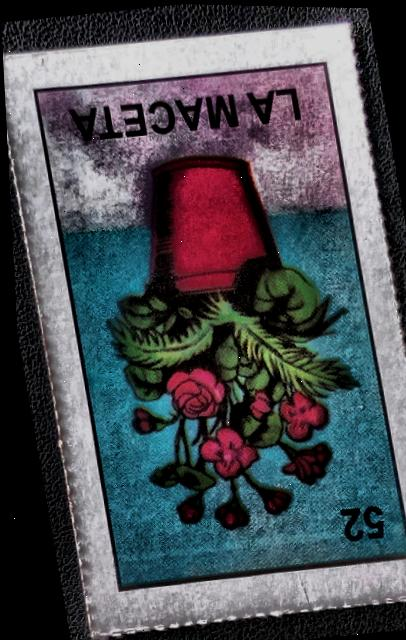La Maceta: (1, 23, 406, 625)
